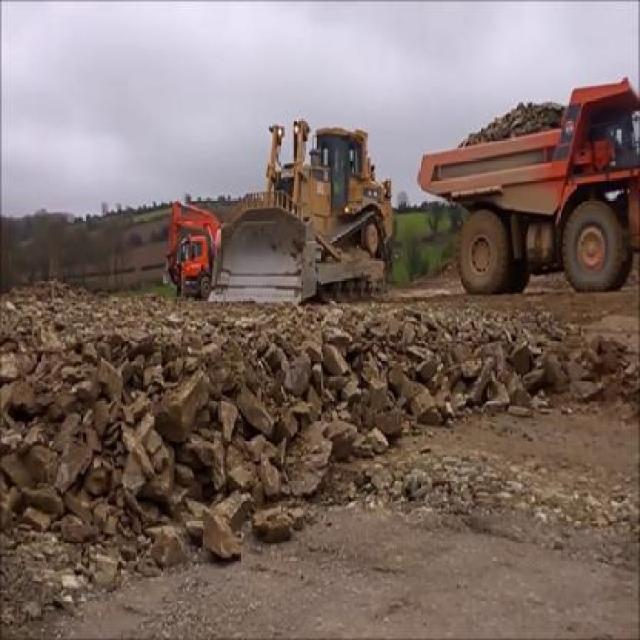buldozerpayloadergrader: (209, 119, 396, 307)
dump_truck: (415, 75, 639, 293)
